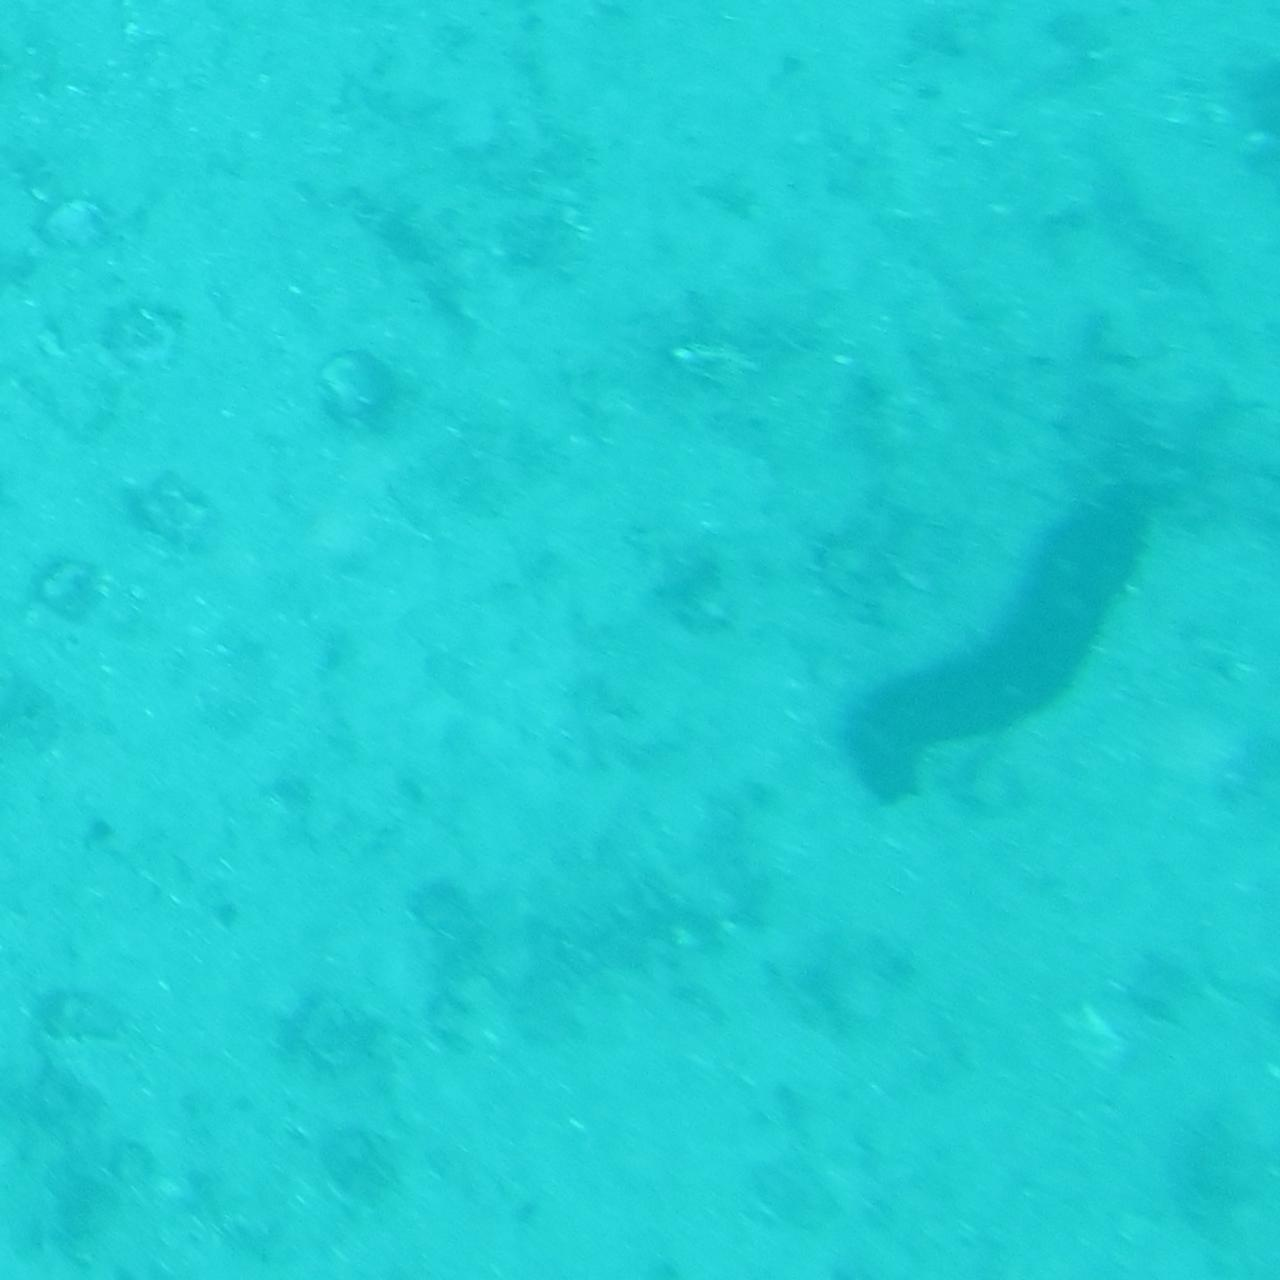Holothuria tubulosa: (840, 481, 1170, 799)
